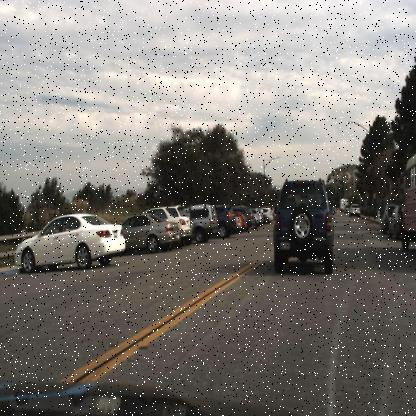car: (272, 172, 342, 281), (15, 213, 131, 269), (122, 211, 179, 247), (189, 200, 218, 240), (164, 204, 194, 241), (172, 204, 194, 249), (386, 202, 403, 242), (218, 203, 236, 237), (378, 198, 391, 236), (349, 200, 364, 221)
truck: (400, 150, 415, 251)
